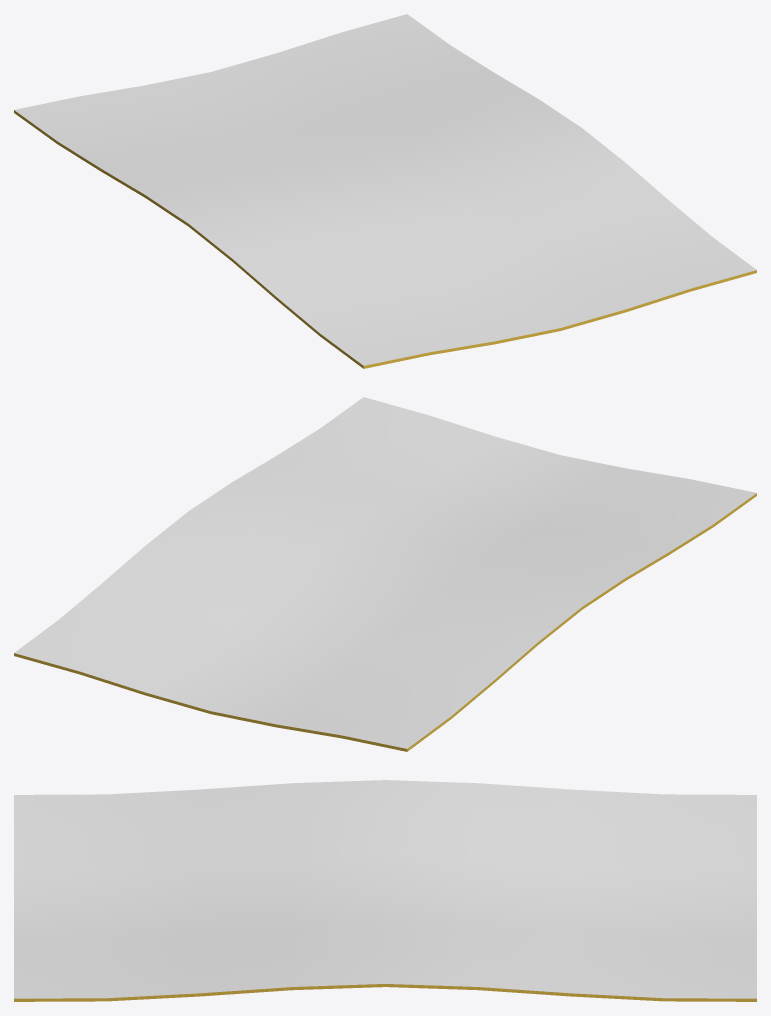
The model's file is paper answer.fbx.
The picture shows the model from 3 angles, top to bottom: view 1: azimuth 30°, elevation 25°; view 2: azimuth 150°, elevation 25°; view 3: azimuth 270°, elevation 25°; orthographic projection. The views are drawn at different scales.
Visible parts, largest first — view 1: paper1; view 2: paper1; view 3: paper1.
Part boxes in pixels (bbox=[...]): paper1: bbox=[14, 14, 756, 368]; paper1: bbox=[14, 397, 756, 751]; paper1: bbox=[14, 780, 756, 1001].
Size of the model in its own units: 95.52 by 6.3 by 147.
